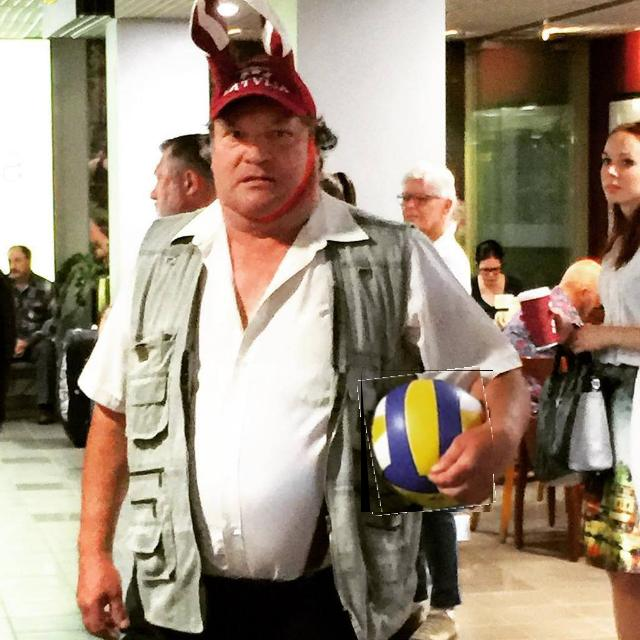Football: (361, 370, 493, 512)
